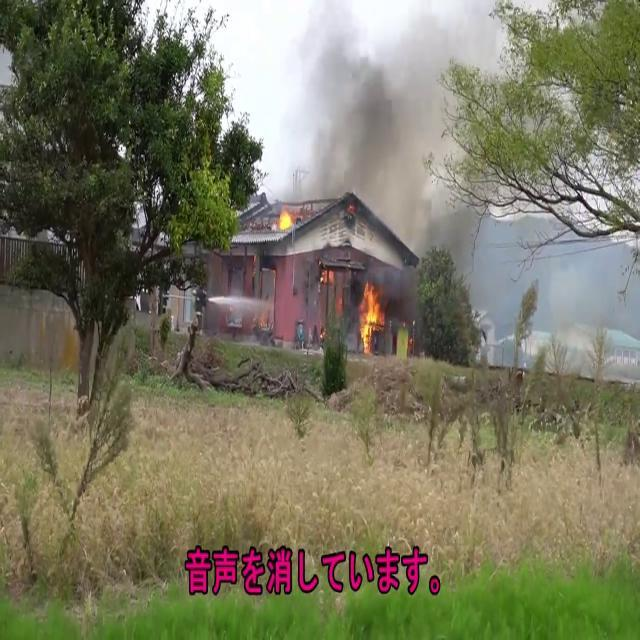Fire: (356, 276, 386, 353), (274, 204, 298, 235)
Smoke: (272, 0, 456, 238)
